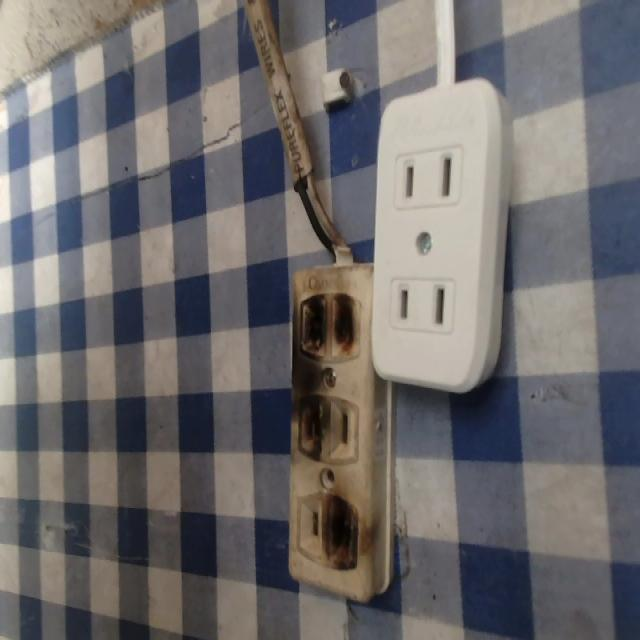-: (289, 288, 367, 363), (322, 492, 371, 572), (289, 387, 337, 462)
